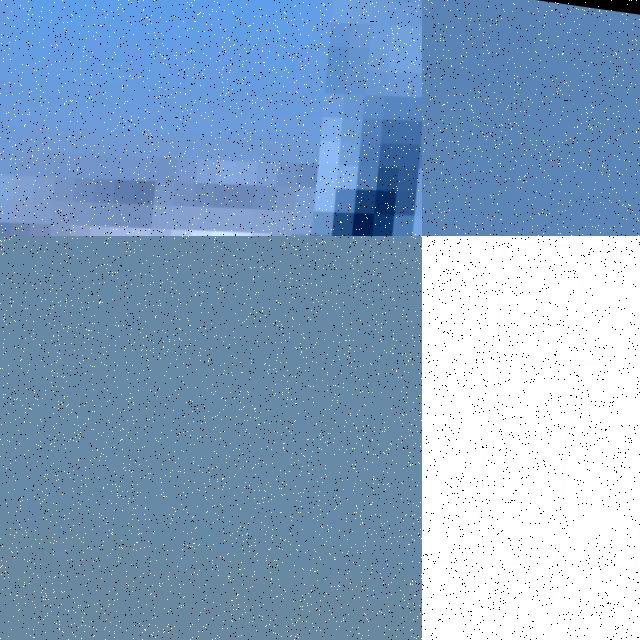drone: (0, 0, 422, 236), (422, 236, 640, 640)
